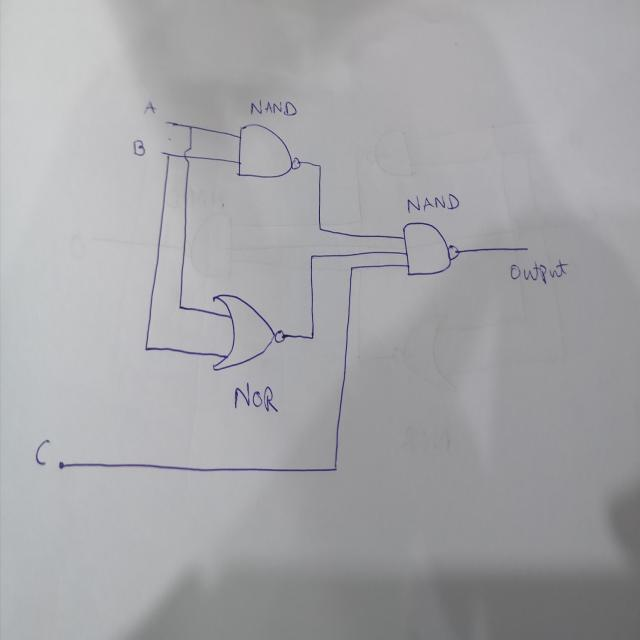crossover: (183, 145, 191, 165)
junction: (307, 326, 317, 346), (346, 260, 356, 274), (331, 461, 339, 475), (316, 221, 324, 235), (176, 300, 184, 312), (143, 343, 149, 354), (316, 159, 322, 170), (308, 251, 314, 261), (166, 150, 172, 160), (188, 122, 194, 131)
terminal: (56, 458, 66, 472), (522, 242, 529, 254), (158, 147, 165, 157), (163, 118, 170, 126)
text: (509, 256, 569, 286), (234, 382, 278, 416), (406, 191, 461, 214), (248, 97, 298, 118), (35, 435, 52, 466), (131, 138, 146, 155), (144, 100, 157, 114)
